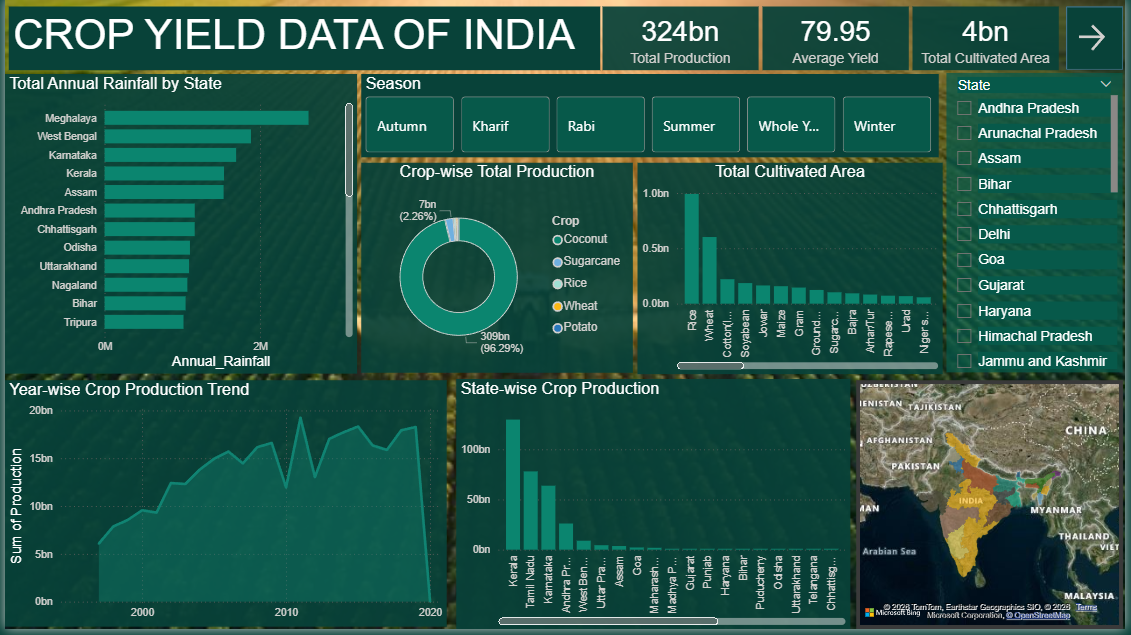

The page's visual inventory and layout, read from the dashboard file:
{"tool":"powerbi","page":{"name":"Page 1","canvas":[1280,720],"ordinal":0},"visuals":[{"type":"clusteredBarChart","title":"Total Annual Rainfall by State","fields":{"Category":["crop_yield.State"],"Y":["Sum(crop_yield.Annual_Rainfall)"]},"box":[0,86.2,402.5,342.5],"z":0},{"type":"columnChart","title":"State-wise Crop Production","fields":{"Category":["crop_yield.State"],"Y":["Sum(crop_yield.Production)"]},"box":[515,433.8,450,286.2],"z":1000},{"type":"donutChart","title":"Crop-wise Total Production","fields":{"Y":["Sum(crop_yield.Production)"],"Category":["crop_yield.Crop"]},"box":[407.5,187.5,310,240],"z":2000},{"type":"card","fields":{"Values":["Avg(crop_yield.Yield)"]},"box":[865.9,8.2,167.4,72.7],"z":3000},{"type":"filledMap","fields":{"Category":["crop_yield.State"],"Series":["crop_yield.Area"]},"box":[972.5,435,305,285],"z":4000},{"type":"slicer","fields":{"Values":["crop_yield.State"]},"box":[1076.2,85,201.2,342.5],"z":5000},{"type":"stackedAreaChart","title":"Year-wise Crop Production Trend","fields":{"Category":["crop_yield.Crop_Year"],"Y":["Sum(crop_yield.Production)"]},"box":[0,435,505,281.2],"z":6000},{"type":"clusteredColumnChart","title":"Total Cultivated Area","fields":{"Y":["Sum(crop_yield.Area)"],"Category":["crop_yield.Crop"]},"box":[722.5,187.5,348.8,241.2],"z":7000},{"type":"textbox","box":[3.8,8.8,676.2,72.5],"z":8000},{"type":"card","fields":{"Values":["Sum(crop_yield.Production)"]},"box":[683.4,8.2,178.4,72.7],"z":9000},{"type":"card","fields":{"Values":["Sum(crop_yield.Area)"]},"box":[1037.4,8.2,167.4,72.7],"z":10000},{"type":"advancedSlicerVisual","fields":{"Values":["crop_yield.Season"]},"box":[407.5,86.2,660,95],"z":11000},{"type":"shape","box":[1212.5,8.4,65.1,72.4],"z":12000},{"type":"actionButton","box":[1222.1,24.1,45.8,39.8],"z":13000}]}

Visuals, with their boxes in screenshot pixels (x1, y1, x2, y2), scaled from the page's 1280x720 canvas onto the 1131x635 screenshot:
"Total Annual Rainfall by State" clusteredBarChart: (x1=0, y1=76, x2=356, y2=378)
"State-wise Crop Production" columnChart: (x1=455, y1=383, x2=853, y2=634)
"Crop-wise Total Production" donutChart: (x1=360, y1=165, x2=634, y2=377)
card - Avg(crop_yield.Yield): (x1=765, y1=7, x2=913, y2=71)
filledMap - crop_yield.State x crop_yield.Area: (x1=859, y1=384, x2=1129, y2=634)
slicer - crop_yield.State: (x1=951, y1=75, x2=1129, y2=377)
"Year-wise Crop Production Trend" stackedAreaChart: (x1=0, y1=384, x2=446, y2=632)
"Total Cultivated Area" clusteredColumnChart: (x1=638, y1=165, x2=947, y2=378)
textbox: (x1=3, y1=8, x2=601, y2=72)
card - Sum(crop_yield.Production): (x1=604, y1=7, x2=761, y2=71)
card - Sum(crop_yield.Area): (x1=917, y1=7, x2=1065, y2=71)
advancedSlicerVisual - crop_yield.Season: (x1=360, y1=76, x2=943, y2=160)
shape: (x1=1071, y1=7, x2=1129, y2=71)
actionButton: (x1=1080, y1=21, x2=1120, y2=56)
